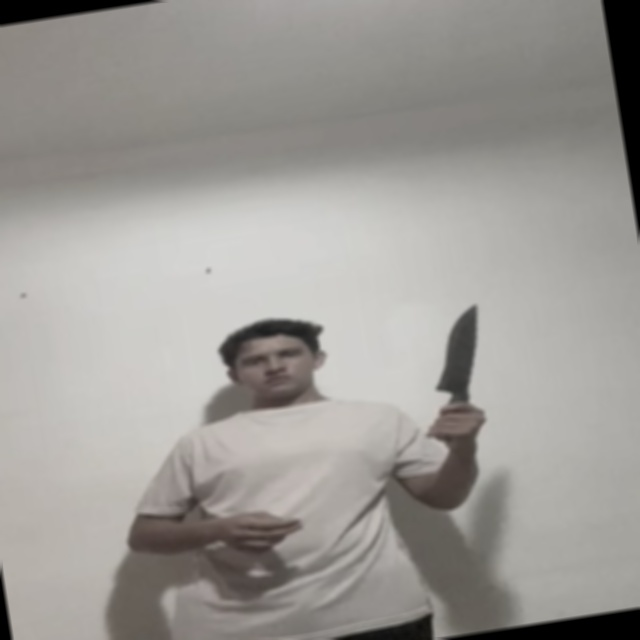Sharp-Object: (417, 304, 490, 401)
